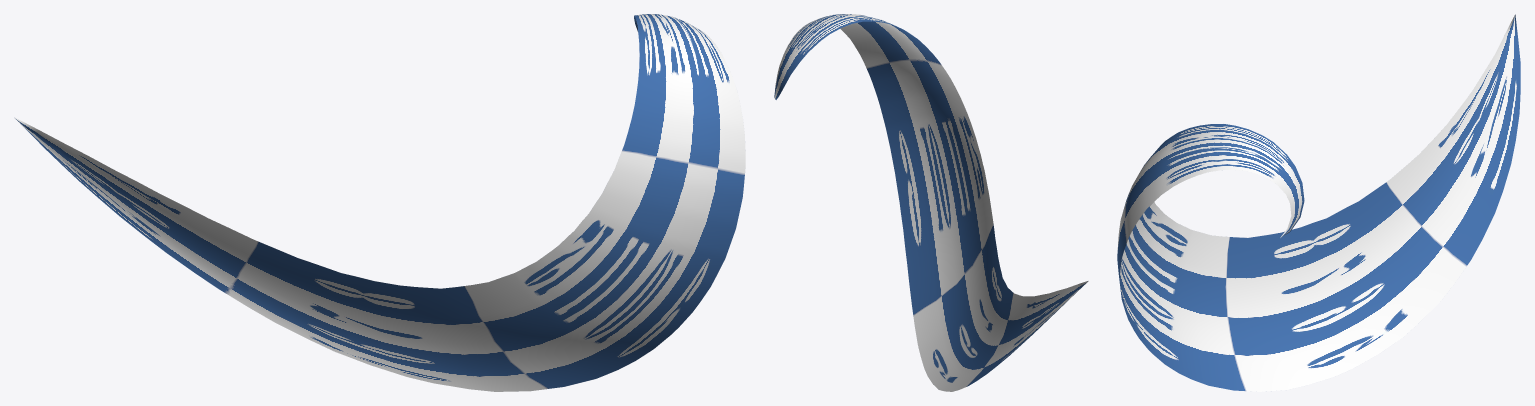
Rendered from Enmu_Wind2.fbx.
3 renders of one model, left to right at view 1: azimuth 30°, elevation 25°; view 2: azimuth 150°, elevation 25°; view 3: azimuth 270°, elevation 25°, orthographic. The views are drawn at different scales.
Parts seen in each view (by area): view 1: SM_e_Plc_P1011_Wind003; view 2: SM_e_Plc_P1011_Wind003; view 3: SM_e_Plc_P1011_Wind003.
Boxes of the visible parts, x1,y1,x2,y2 form: SM_e_Plc_P1011_Wind003: (14,14,745,391); SM_e_Plc_P1011_Wind003: (774,14,1088,391); SM_e_Plc_P1011_Wind003: (1117,14,1520,391).
Size of the model in its own units: 251 by 162 by 188.
